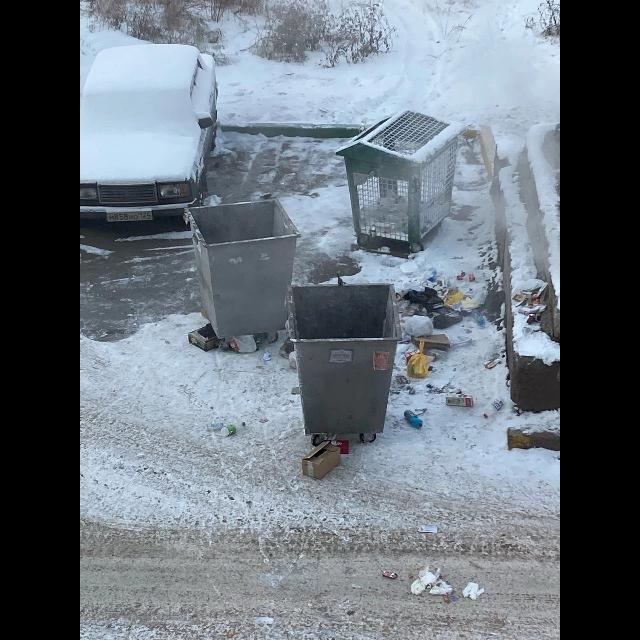Trash_Can_Empty: (285, 282, 399, 437), (183, 198, 299, 339)
